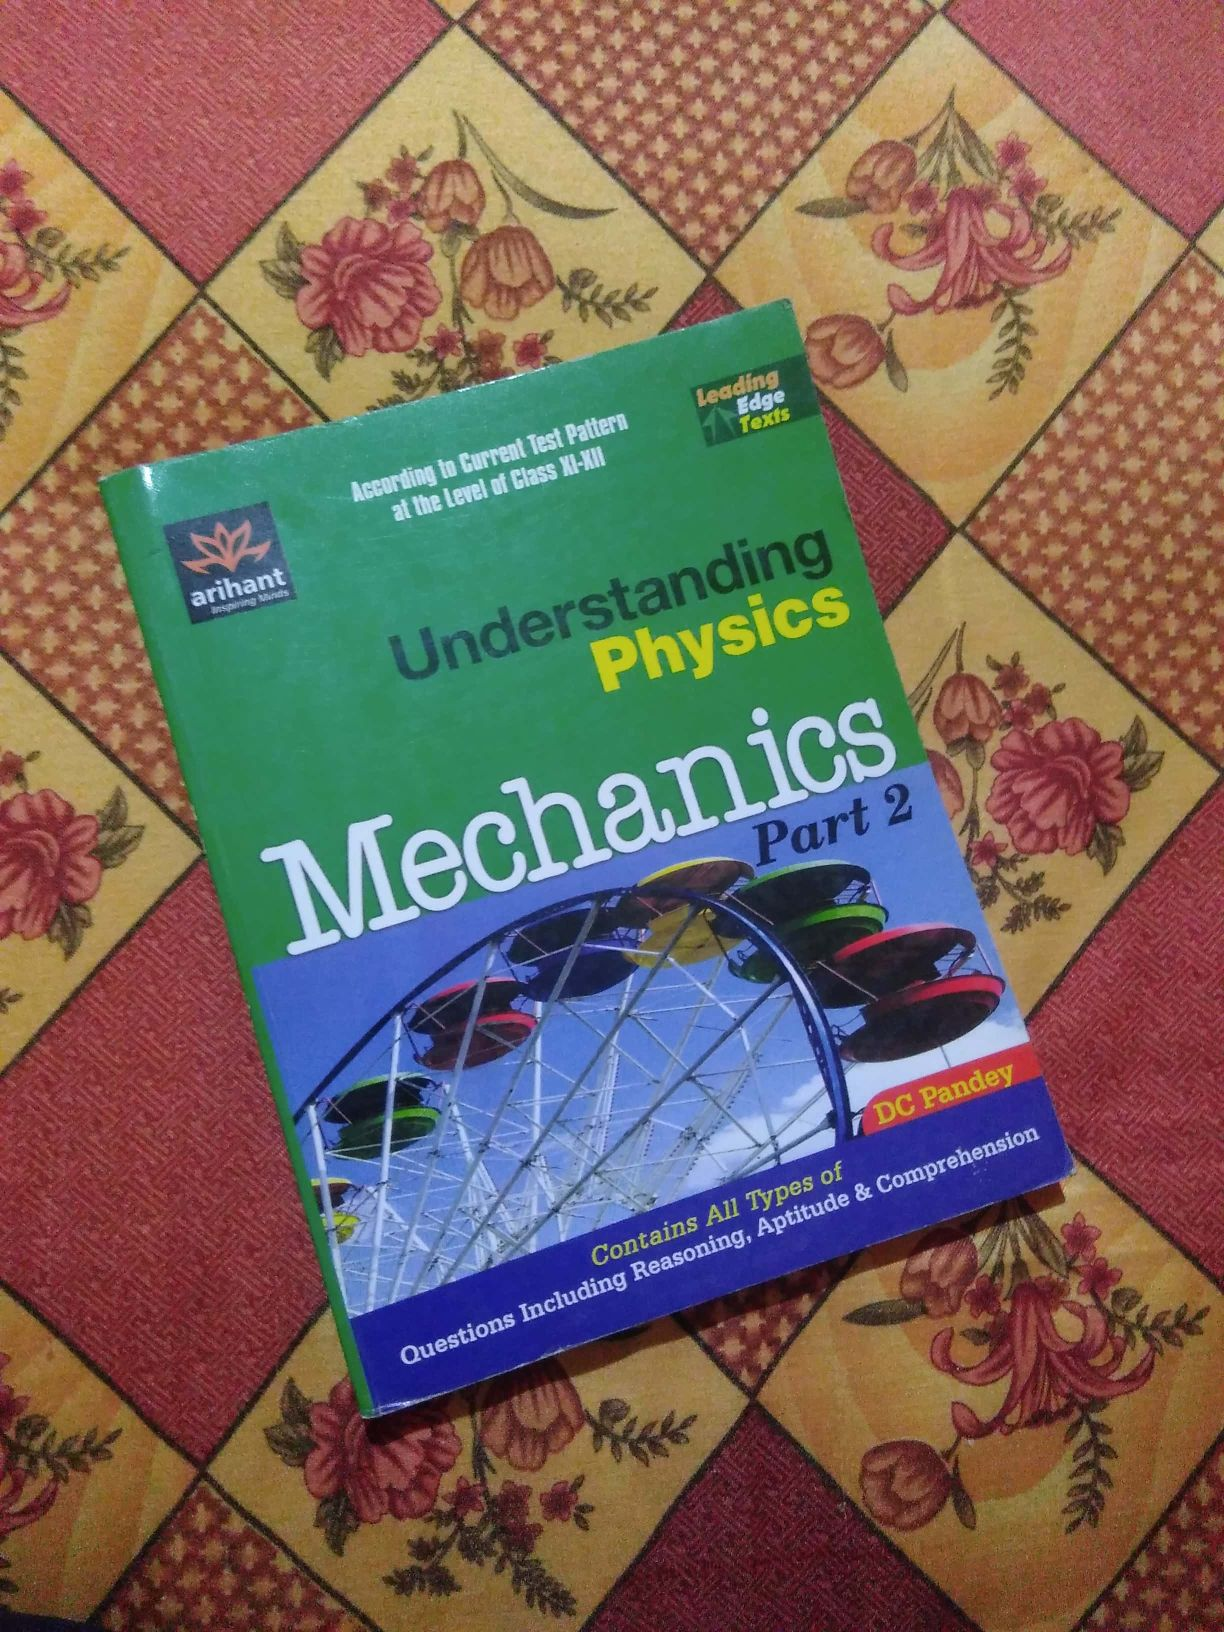mechanics: (80, 317, 1103, 1397)
